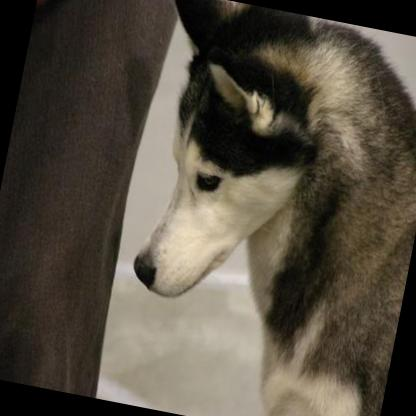Siberian_husky: (90, 0, 416, 416)
